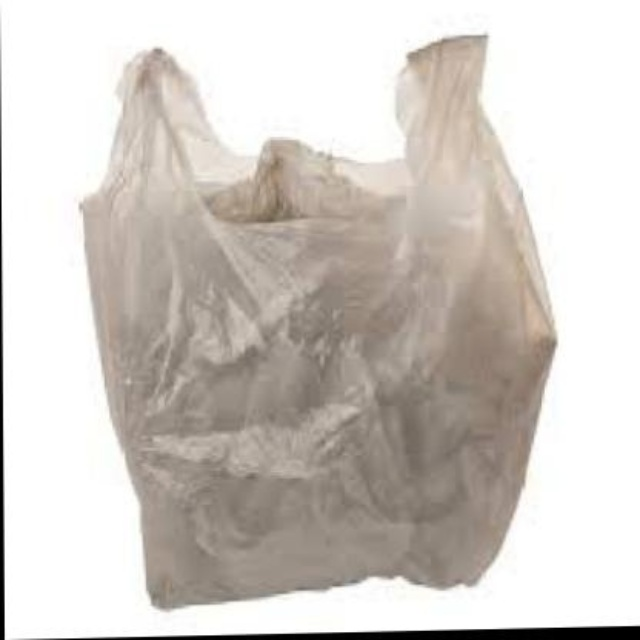trash: (83, 35, 554, 606)
